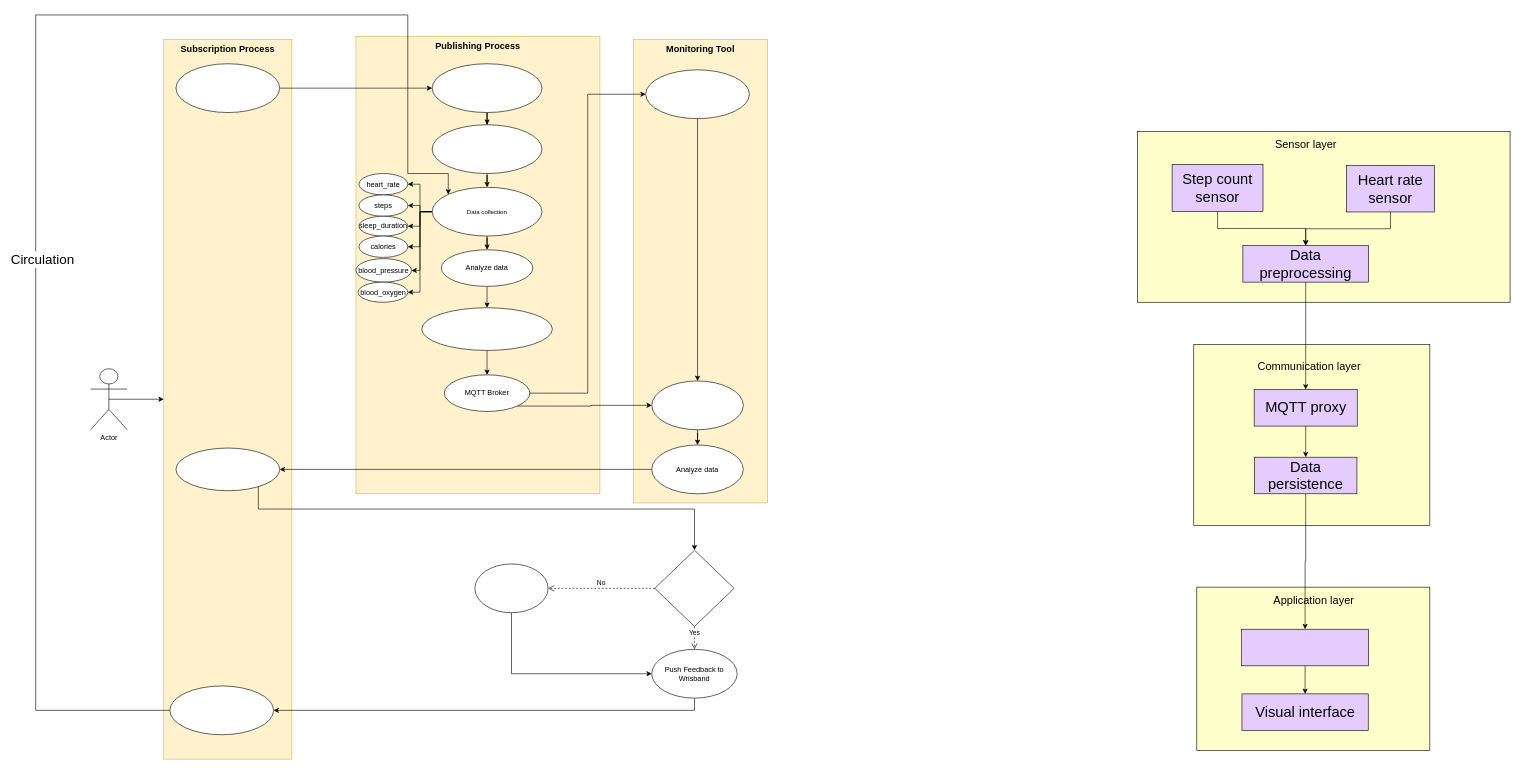
Image size: 1521x770. Some labels were removed from this diagram. The shapes that lost their labels are listed below. From the top down, each one's centre as x and y in pixels, then its label:
At point (227, 88): "Game Server Subscribes to Topic".
At point (487, 88): "Get Wristband".
At point (697, 94): "MQTT Explorer".
At point (487, 149): "Initialize".
At point (486, 328): "Wrisband Sends JSON Data".
At point (697, 405): "Game Server".
At point (227, 469): "Receive Data".
At point (511, 588): "Resend".
At point (694, 588): "Feedback".
At point (1305, 647): "AI Analysis Engine".
At point (221, 710): "Update Buddy Status".
